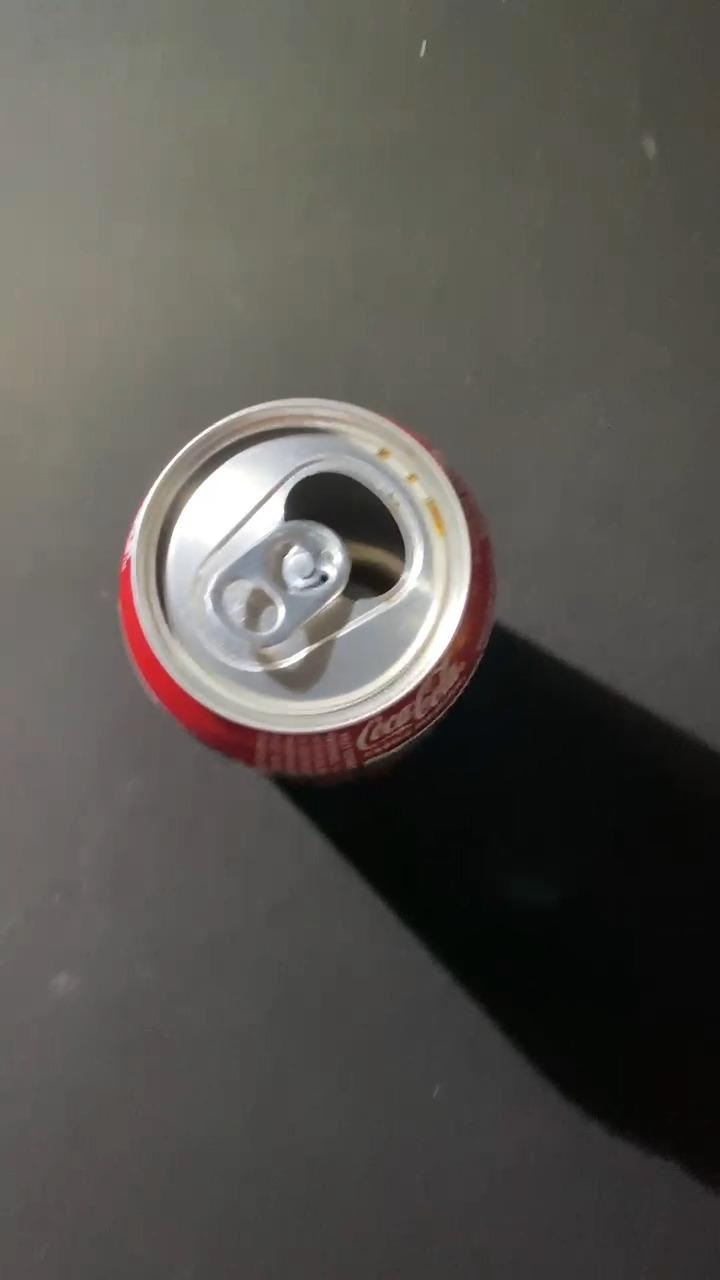coke: (117, 395, 498, 778)
